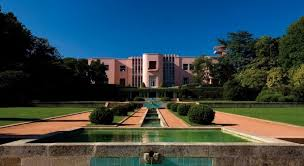serralves: (88, 44, 233, 88)
